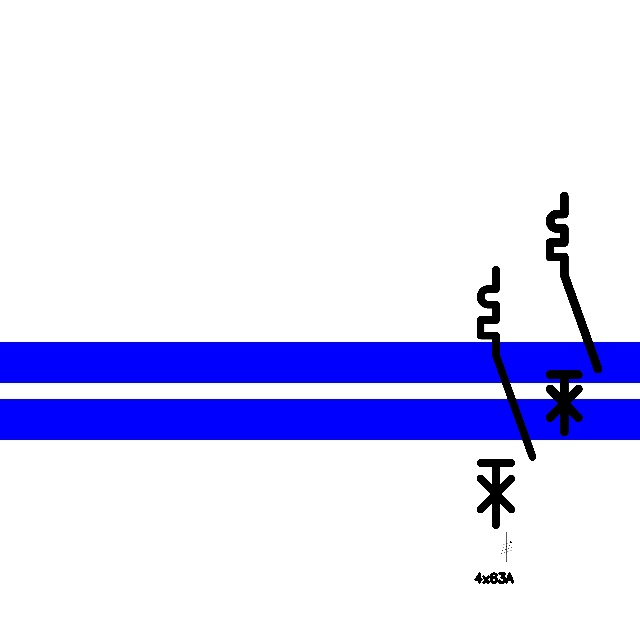interruptor_termomagnetico: (474, 263, 539, 531), (544, 190, 604, 438)
